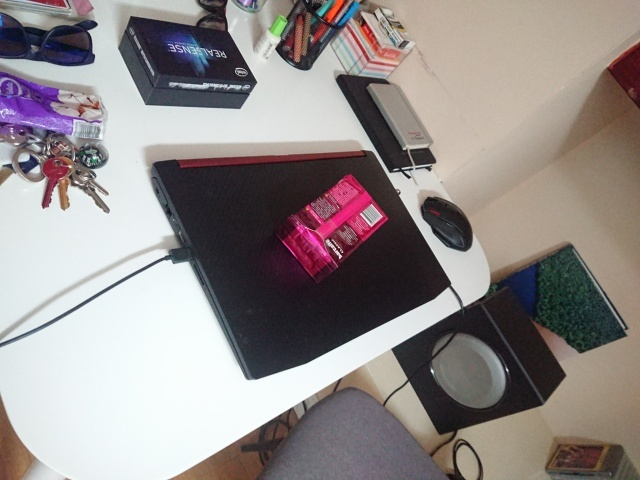Barcaffe Classic Original 225g: (274, 172, 391, 287)
